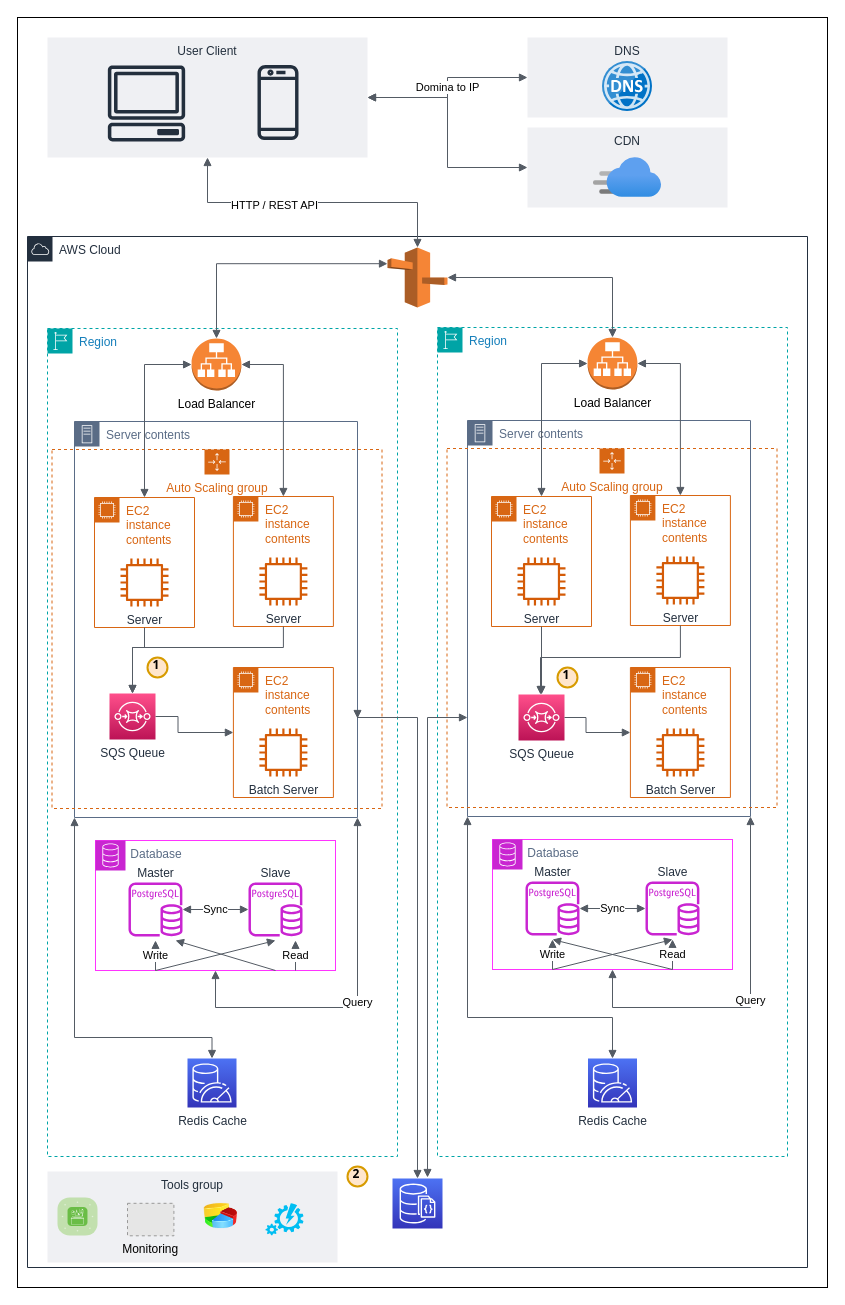
The diagram is 845 pixels wide and 1305 high, and some of its shapes have lost their labels. Grey dashed boxes stand in for pictures. Each missing label, with the centre of its shape:
"Automation" goes at [284,1219].
"Log" goes at [77,1216].
"Metric" goes at [220,1215].
"NoSQL DocumentDB" goes at [417,1203].
"Route" goes at [417,277].
